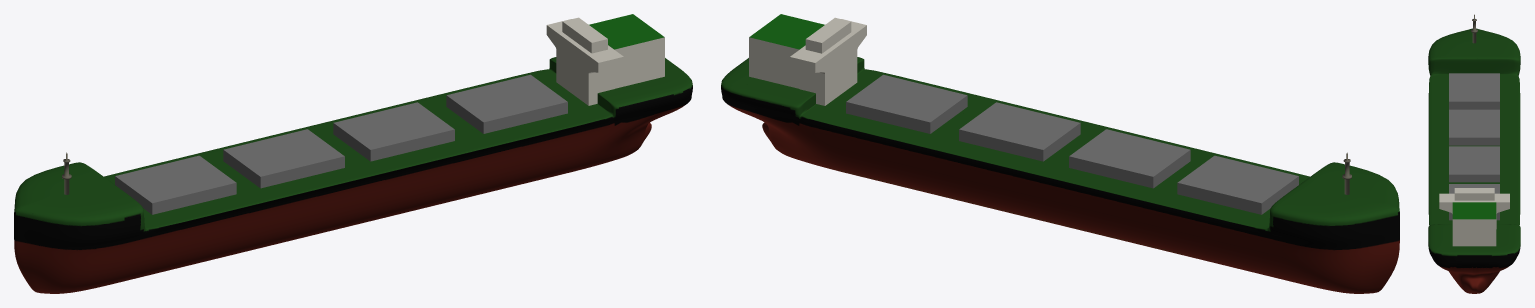
Rendered from sanHuoShip.glb.
3 views of the same model, side by side, from view 1: azimuth 30°, elevation 25°; view 2: azimuth 150°, elevation 25°; view 3: azimuth 270°, elevation 25° (orthographic). The views are drawn at different scales.
Visible parts, largest first — view 1: 主体, 货仓.003, 货仓.002, 货仓.004, 货仓.001, 指挥室, 停机坪; view 2: 主体, 货仓.003, 货仓.002, 货仓.004, 货仓.001, 指挥室, 停机坪; view 3: 主体, 停机坪, 货仓.001, 货仓.002, 货仓.003, 指挥室, 货仓.004, 电线杆.
Part boxes in pixels (x1,y1,x2,y2): 主体: (14,57,692,293); 货仓.003: (333,102,454,161); 货仓.002: (223,129,344,188); 货仓.004: (446,74,567,133); 货仓.001: (115,155,236,214); 指挥室: (546,17,623,105); 停机坪: (589,14,664,88); 主体: (721,57,1399,293); 货仓.003: (959,102,1080,161); 货仓.002: (1069,129,1190,188); 货仓.004: (846,74,967,133); 货仓.001: (1177,155,1298,214); 指挥室: (790,17,866,105); 停机坪: (749,14,824,88); 主体: (1428,28,1520,293); 停机坪: (1452,202,1496,246); 货仓.001: (1449,73,1499,109); 货仓.002: (1449,109,1499,145); 货仓.003: (1449,146,1499,182); 指挥室: (1439,188,1509,228); 货仓.004: (1449,184,1499,220); 电线杆: (1471,14,1477,43).
Bounding box in the file's own units: 20.4 × 4.1 × 3.63.
Materials: 5 (1 with a texture image).
